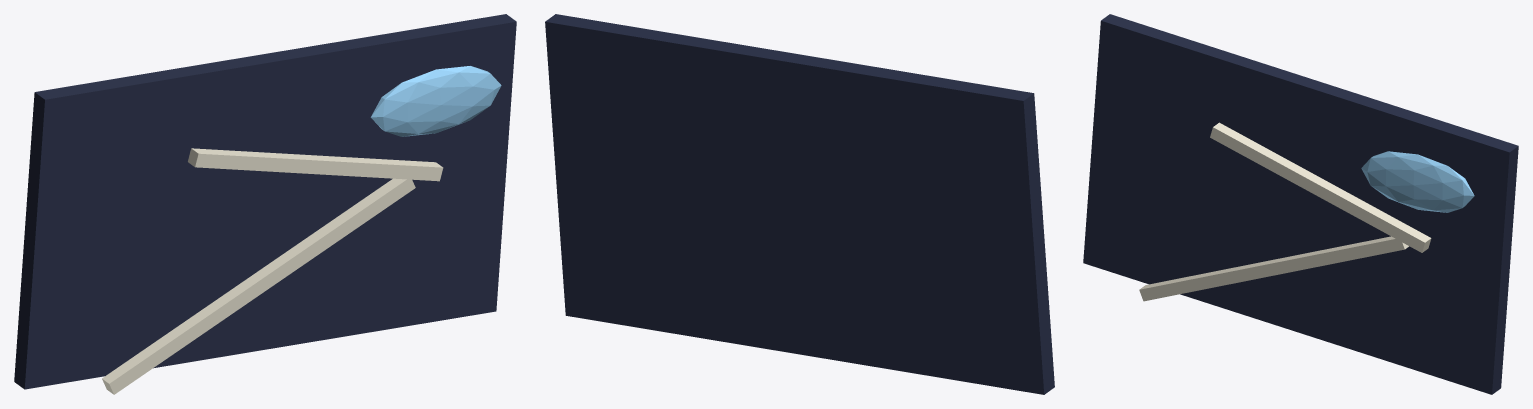
The model's file is 02_weathering_wear_overlay_2.glb.
3 renders of one model, left to right at view 1: azimuth 30°, elevation 25°; view 2: azimuth 150°, elevation 25°; view 3: azimuth 330°, elevation 25°, orthographic. The views are drawn at different scales.
Parts seen in each view (by area): view 1: wear_plate, scratch_a, rust_or_moss_spot, scratch_b; view 2: wear_plate; view 3: wear_plate, rust_or_moss_spot, scratch_b, scratch_a.
Part boxes in pixels (x1=…): wear_plate: x1=14, y1=14, x2=516, y2=389; scratch_a: x1=102, y1=178, x2=415, y2=394; rust_or_moss_spot: x1=370, y1=66, x2=501, y2=136; scratch_b: x1=188, y1=148, x2=443, y2=181; wear_plate: x1=545, y1=14, x2=1054, y2=394; wear_plate: x1=1083, y1=14, x2=1518, y2=394; rust_or_moss_spot: x1=1361, y1=151, x2=1474, y2=212; scratch_b: x1=1210, y1=122, x2=1431, y2=252; scratch_a: x1=1139, y1=236, x2=1408, y2=301.
Bounding box in the file's own units: 1.35 × 0.8451 × 0.134.
